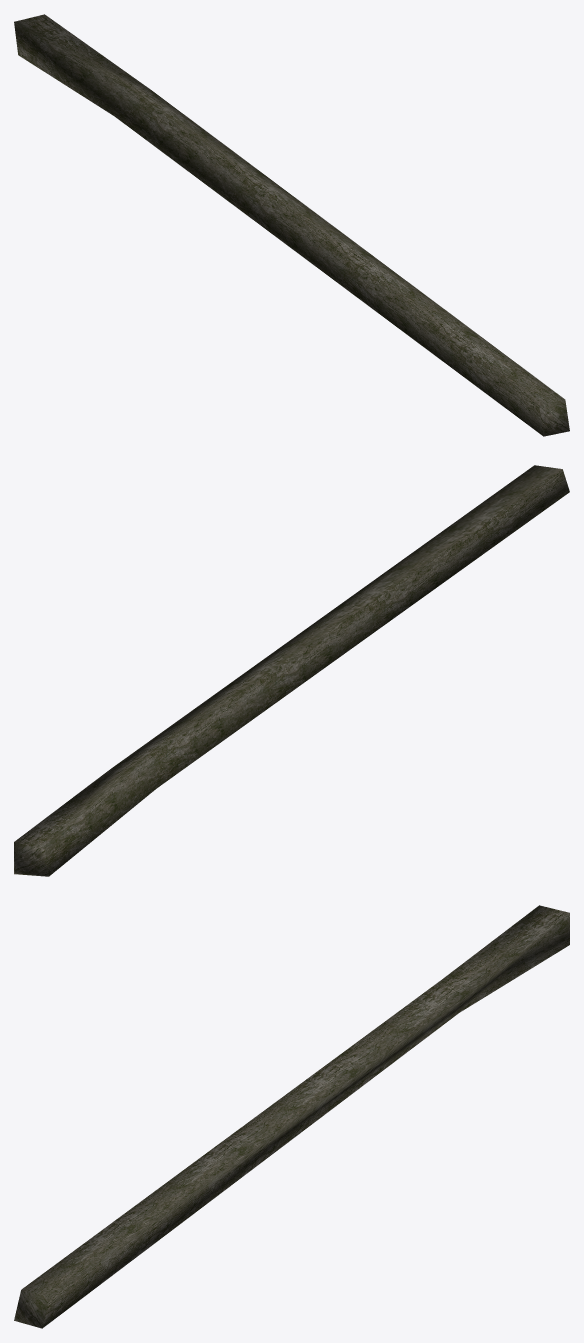
The model's file is TI_Pillar_01.fbx.
3 renders of one model, top to bottom at view 1: azimuth 30°, elevation 25°; view 2: azimuth 150°, elevation 25°; view 3: azimuth 330°, elevation 25°, orthographic.
Parts seen in each view (by area): view 1: TI_Pillar_01; view 2: TI_Pillar_01; view 3: TI_Pillar_01.
Part boxes in pixels (x1,y1,x2,y2): TI_Pillar_01: (14, 14, 569, 436); TI_Pillar_01: (14, 465, 569, 876); TI_Pillar_01: (14, 905, 569, 1328).
Bounding box in the file's own units: 0.5219 × 0.4727 × 11.67.
